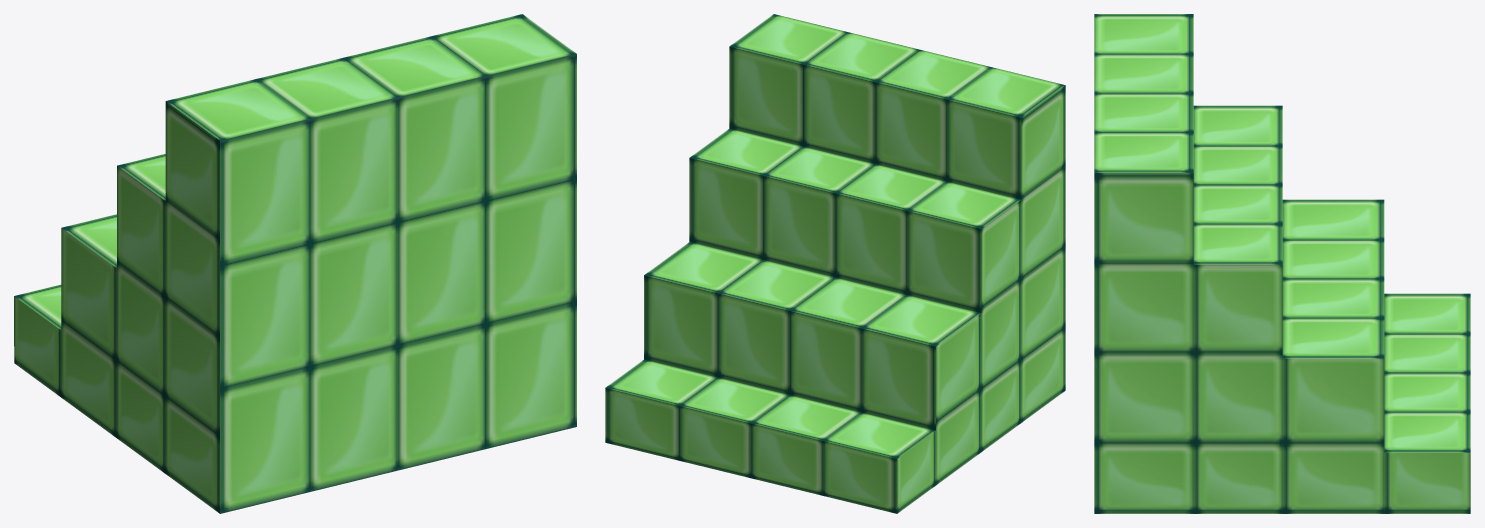
File: POL0510015.fbx
3 views of the same model, side by side, from view 1: azimuth 30°, elevation 25°; view 2: azimuth 150°, elevation 25°; view 3: azimuth 270°, elevation 25° (orthographic). The views are drawn at different scales.
Parts seen in each view (by area): view 1: smPOL0510015; view 2: smPOL0510015; view 3: smPOL0510015.
Part boxes in pixels (x1,y1,x2,y2): smPOL0510015: [14, 14, 576, 513]; smPOL0510015: [605, 14, 1065, 513]; smPOL0510015: [1094, 14, 1470, 513].
Bounding box in the file's own units: 161 × 161 × 161.
Materials: 1 (1 with a texture image).
